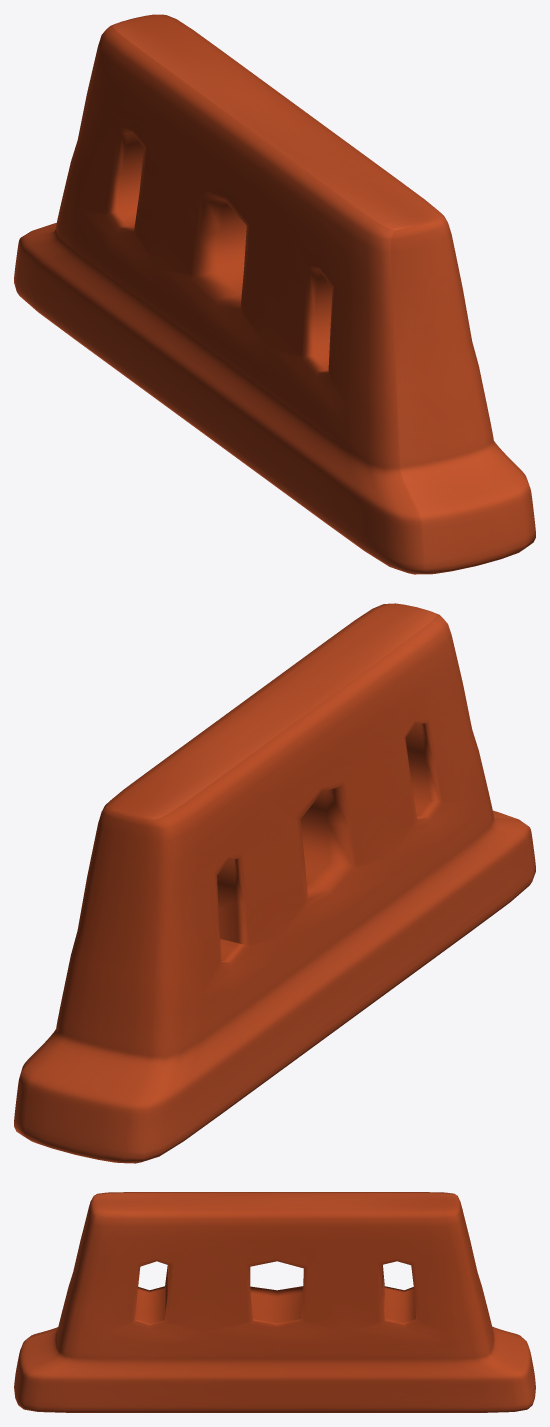
Rendered from barricade.fbx.
3 renders of one model, top to bottom at view 1: azimuth 30°, elevation 25°; view 2: azimuth 150°, elevation 25°; view 3: azimuth 270°, elevation 25°, orthographic. The views are drawn at different scales.
Visible parts, largest first — view 1: Cube; view 2: Cube; view 3: Cube.
Part boxes in pixels (x1,y1,x2,y2): Cube: (14, 14, 535, 574); Cube: (14, 603, 535, 1163); Cube: (14, 1192, 535, 1412).
Size of the model in its own units: 220 by 417 by 1018.
Materials: 1 (1 with a texture image).
